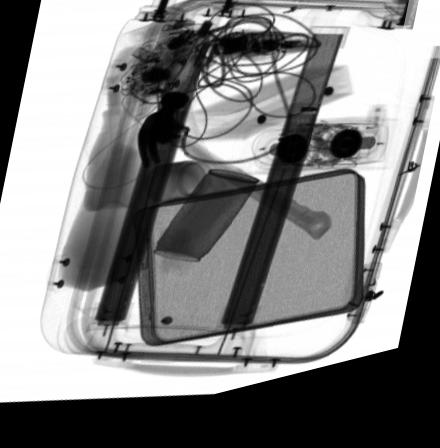Hammer: (135, 99, 333, 256)
